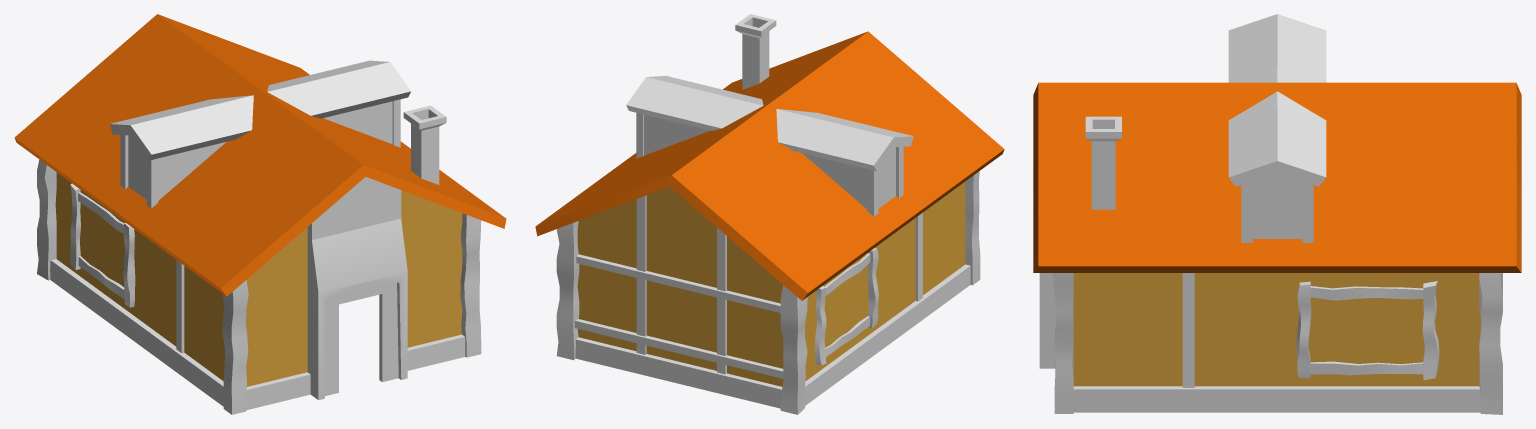
File: Huis v2.fbx
The picture shows the model from 3 angles, left to right: view 1: azimuth 30°, elevation 25°; view 2: azimuth 150°, elevation 25°; view 3: azimuth 270°, elevation 25°; orthographic projection. The views are drawn at different scales.
Parts seen in each view (by area): view 1: Huis v2; view 2: Huis v2; view 3: Huis v2.
Part boxes in pixels (box(x1,y1,x2,y2)): Huis v2: box(14, 14, 506, 414); Huis v2: box(535, 14, 1004, 414); Huis v2: box(1033, 14, 1521, 414).
Size of the model in its own units: 8.16 by 6.34 by 10.4.
